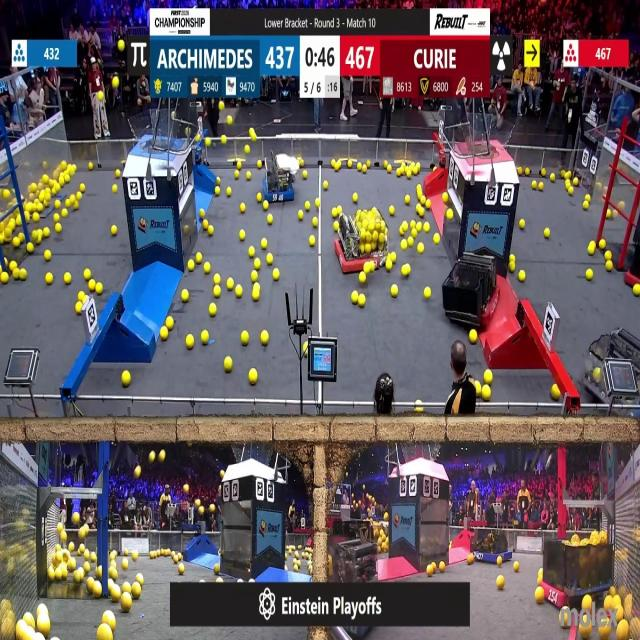ball_airborne: (78, 526, 86, 538), (148, 450, 156, 462), (112, 76, 119, 88), (73, 514, 80, 526), (160, 451, 167, 462), (117, 40, 124, 51), (61, 530, 68, 541), (135, 466, 141, 477), (226, 118, 232, 129), (98, 93, 105, 102), (249, 129, 255, 139), (68, 542, 75, 550), (210, 503, 216, 512), (218, 102, 224, 111), (183, 485, 189, 494), (194, 498, 200, 506), (199, 506, 205, 514), (78, 543, 83, 552)
ball_ground: (37, 616, 50, 636), (120, 594, 131, 612), (103, 614, 115, 630), (97, 627, 110, 640), (223, 356, 232, 372), (121, 372, 130, 387), (94, 584, 103, 599), (110, 589, 120, 602), (249, 367, 257, 383), (552, 384, 560, 400), (535, 588, 543, 604), (133, 585, 142, 599), (242, 332, 250, 347), (582, 593, 590, 608), (32, 232, 41, 245), (202, 332, 210, 346), (484, 386, 492, 400), (88, 577, 96, 591), (26, 616, 35, 628), (485, 372, 493, 385), (162, 327, 170, 340), (186, 336, 193, 350), (263, 332, 270, 346), (401, 266, 409, 278), (64, 273, 72, 285), (1, 273, 9, 285), (358, 273, 366, 285), (496, 576, 504, 588), (96, 566, 104, 578), (181, 289, 188, 302), (399, 222, 406, 235), (426, 565, 434, 576), (96, 283, 104, 294), (236, 285, 243, 297), (167, 317, 174, 329), (469, 332, 476, 344), (210, 305, 217, 317), (252, 288, 259, 300), (587, 270, 594, 281), (226, 279, 233, 290), (424, 287, 431, 298), (45, 274, 52, 285), (83, 270, 90, 281), (589, 244, 596, 255), (467, 554, 474, 565), (214, 286, 221, 297), (447, 210, 454, 221), (213, 274, 220, 285), (108, 582, 115, 593), (564, 613, 569, 628), (391, 284, 397, 296), (634, 284, 640, 296), (358, 294, 364, 306), (122, 584, 130, 593), (475, 383, 481, 395), (251, 272, 258, 282), (187, 262, 194, 272), (605, 262, 612, 272), (77, 291, 84, 301), (253, 261, 260, 271), (309, 237, 316, 247), (12, 238, 19, 248), (137, 574, 144, 584), (507, 264, 514, 274), (110, 568, 117, 578), (331, 221, 338, 231), (268, 253, 274, 264), (274, 270, 280, 281), (19, 270, 25, 281), (514, 561, 520, 572), (76, 304, 82, 315), (433, 234, 439, 245), (520, 271, 526, 282), (90, 281, 96, 292), (418, 205, 424, 216), (44, 250, 50, 261), (12, 270, 18, 281), (9, 263, 16, 272), (388, 206, 395, 215), (83, 563, 90, 572), (240, 232, 246, 242), (543, 230, 549, 240), (599, 240, 605, 250), (205, 264, 211, 274), (423, 222, 429, 232), (418, 244, 424, 254), (28, 243, 34, 253), (352, 292, 358, 302), (313, 218, 319, 228), (178, 564, 184, 574), (297, 210, 303, 220), (331, 208, 337, 218), (425, 200, 431, 210), (408, 238, 414, 248), (195, 253, 201, 263), (263, 240, 269, 250), (208, 225, 214, 235), (33, 212, 39, 222), (214, 564, 220, 574), (132, 552, 138, 562), (368, 264, 374, 274), (18, 234, 24, 244), (536, 574, 542, 584), (110, 552, 116, 562), (336, 162, 342, 172), (524, 169, 532, 176), (406, 196, 411, 207), (352, 192, 358, 201), (264, 202, 270, 211), (584, 202, 590, 211), (400, 241, 406, 250), (390, 252, 396, 261), (121, 560, 127, 569), (73, 202, 79, 211), (214, 186, 220, 195), (605, 251, 611, 260), (551, 174, 557, 183), (606, 210, 612, 219), (417, 222, 423, 231), (242, 144, 248, 153), (92, 553, 98, 562), (40, 202, 46, 211), (330, 161, 336, 170), (269, 214, 274, 224), (387, 262, 392, 272), (444, 192, 449, 202), (249, 247, 254, 257), (111, 225, 116, 235), (441, 562, 446, 572), (226, 186, 231, 196), (204, 219, 209, 229), (420, 196, 425, 206), (322, 181, 328, 189), (43, 230, 49, 238), (256, 162, 262, 170), (496, 558, 502, 566), (62, 209, 68, 217), (412, 220, 418, 228), (76, 191, 82, 199), (586, 193, 592, 201), (246, 172, 252, 180), (412, 230, 418, 238), (540, 169, 546, 177), (571, 178, 577, 186), (55, 214, 61, 222), (348, 162, 354, 170), (407, 171, 413, 179), (566, 172, 572, 180), (241, 204, 246, 213), (57, 223, 62, 232), (520, 219, 525, 228), (568, 186, 573, 195), (304, 171, 309, 180), (357, 162, 362, 171), (361, 165, 366, 174), (216, 576, 222, 583), (237, 163, 243, 170), (511, 254, 517, 261), (298, 161, 304, 168), (414, 169, 420, 176), (365, 162, 371, 169), (115, 170, 120, 178), (316, 200, 321, 208), (256, 192, 261, 200), (112, 184, 117, 192), (532, 181, 537, 189), (79, 184, 84, 192), (538, 182, 543, 190), (90, 164, 95, 172), (396, 169, 401, 177), (516, 166, 521, 174), (56, 201, 61, 209), (66, 201, 71, 209), (561, 171, 566, 179), (384, 514, 389, 522), (306, 202, 310, 211), (201, 209, 205, 218), (338, 207, 342, 216), (387, 167, 392, 174), (416, 398, 421, 405), (236, 172, 240, 180), (293, 565, 297, 573), (150, 553, 154, 561), (178, 554, 182, 562), (66, 175, 70, 183), (216, 177, 220, 184), (418, 184, 422, 191), (0, 266, 4, 273)
goal: (460, 118, 517, 158), (128, 115, 186, 152)
robot_blue: (584, 329, 640, 414), (264, 159, 298, 202), (474, 528, 514, 564)
robot_red: (540, 528, 612, 607), (444, 250, 502, 332), (335, 209, 389, 273), (332, 518, 380, 581), (626, 228, 640, 287)
